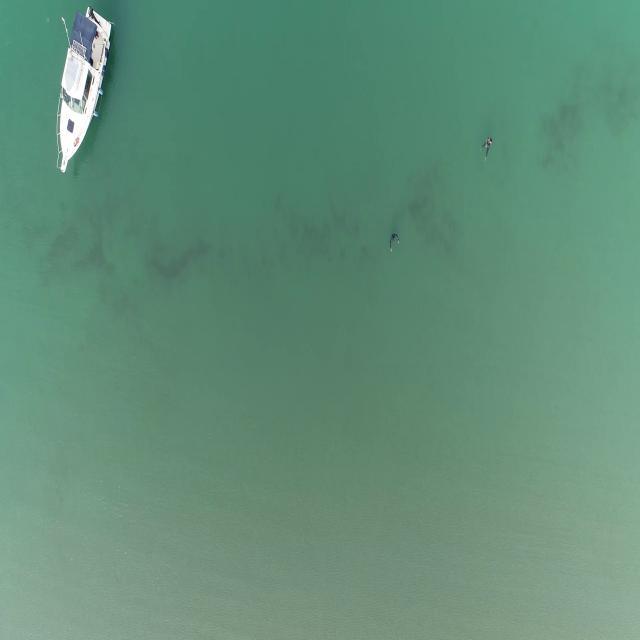boat: (54, 6, 114, 174)
person: (482, 136, 494, 165), (387, 231, 400, 254)
